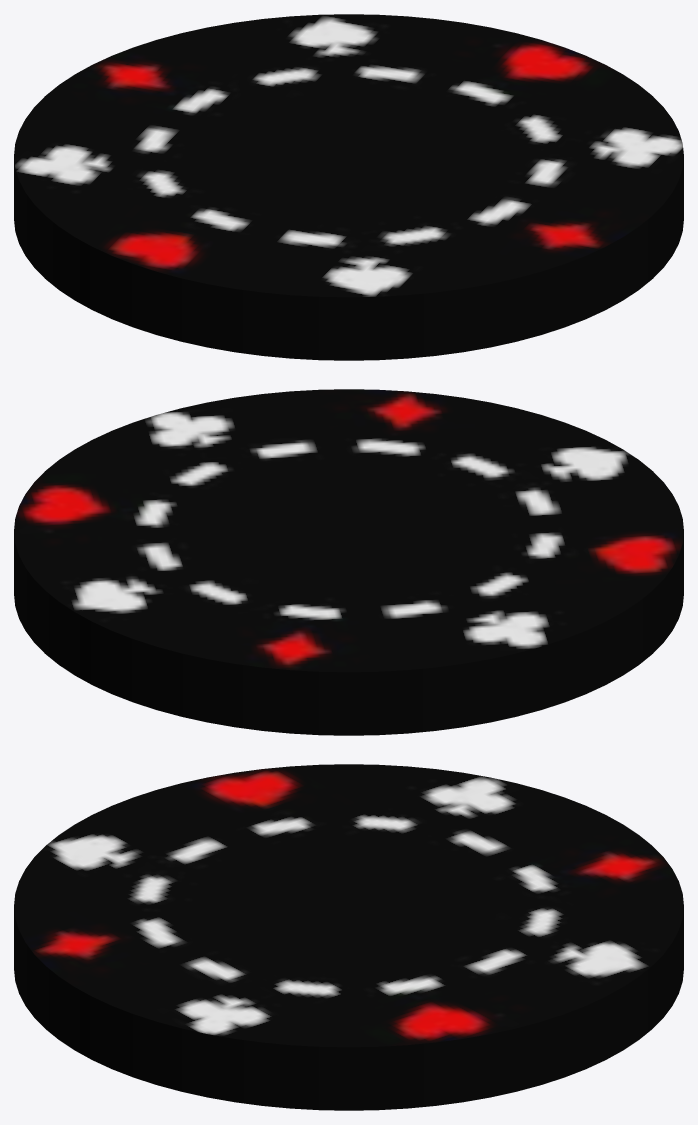
The model's file is 2T3RWLeAudL.glb.
3 renders of one model, top to bottom at view 1: azimuth 30°, elevation 25°; view 2: azimuth 150°, elevation 25°; view 3: azimuth 270°, elevation 25°, orthographic.
Visible parts, largest first — view 1: Cylinder.001_Cylinder.000; view 2: Cylinder.001_Cylinder.000; view 3: Cylinder.001_Cylinder.000.
Part boxes in pixels (x1,y1,x2,y2): Cylinder.001_Cylinder.000: [14, 14, 683, 360]; Cylinder.001_Cylinder.000: [14, 389, 683, 735]; Cylinder.001_Cylinder.000: [14, 764, 683, 1110].
Size of the model in its own units: 9.58 by 0.9997 by 9.58.
Materials: 1 (1 with a texture image).
